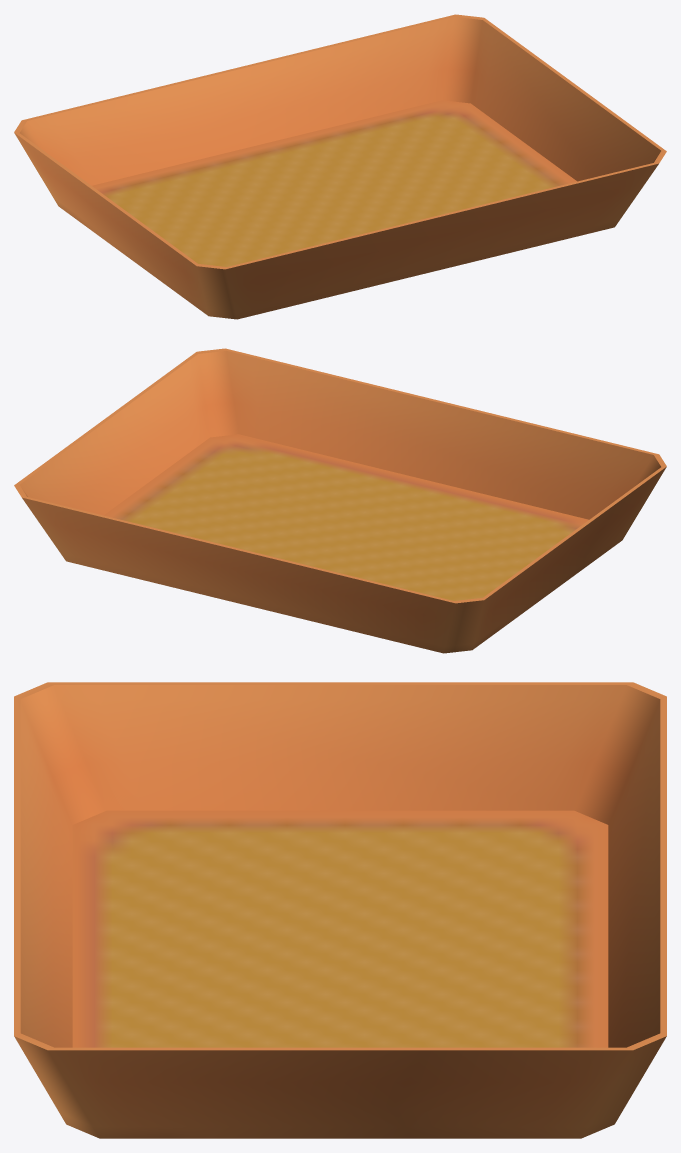
File: jsf_Carton_04.fbx
The picture shows the model from 3 angles, top to bottom: view 1: azimuth 30°, elevation 25°; view 2: azimuth 150°, elevation 25°; view 3: azimuth 270°, elevation 25°; orthographic projection. The views are drawn at different scales.
Visible parts, largest first — view 1: jsf_Carton_04; view 2: jsf_Carton_04; view 3: jsf_Carton_04.
Part boxes in pixels (<box>): jsf_Carton_04: <box>14,14,666,319</box>; jsf_Carton_04: <box>14,348,666,653</box>; jsf_Carton_04: <box>14,682,666,1138</box>.
Size of the model in its own units: 20 by 2.8 by 15.
